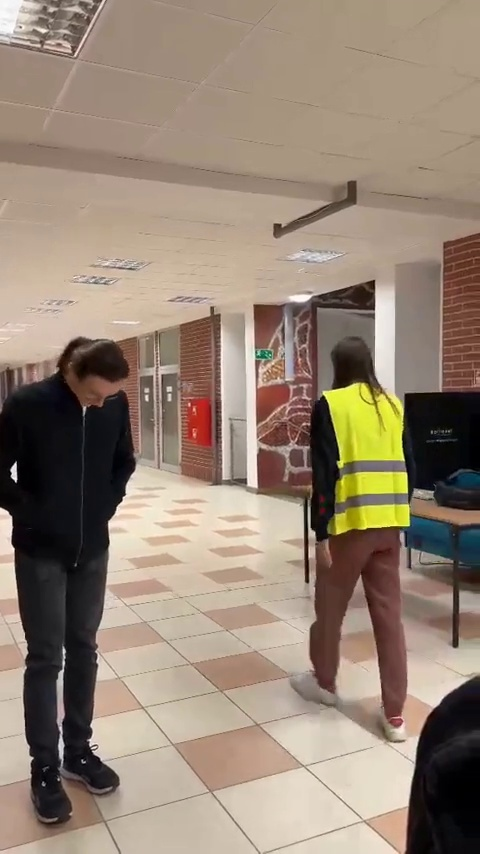no vest: (3, 337, 145, 834)
vest: (293, 334, 435, 742)
